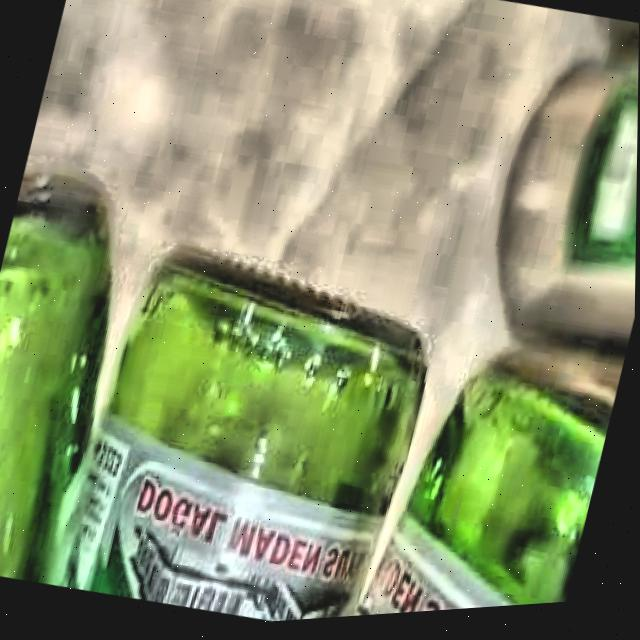glass: (0, 173, 615, 625)
